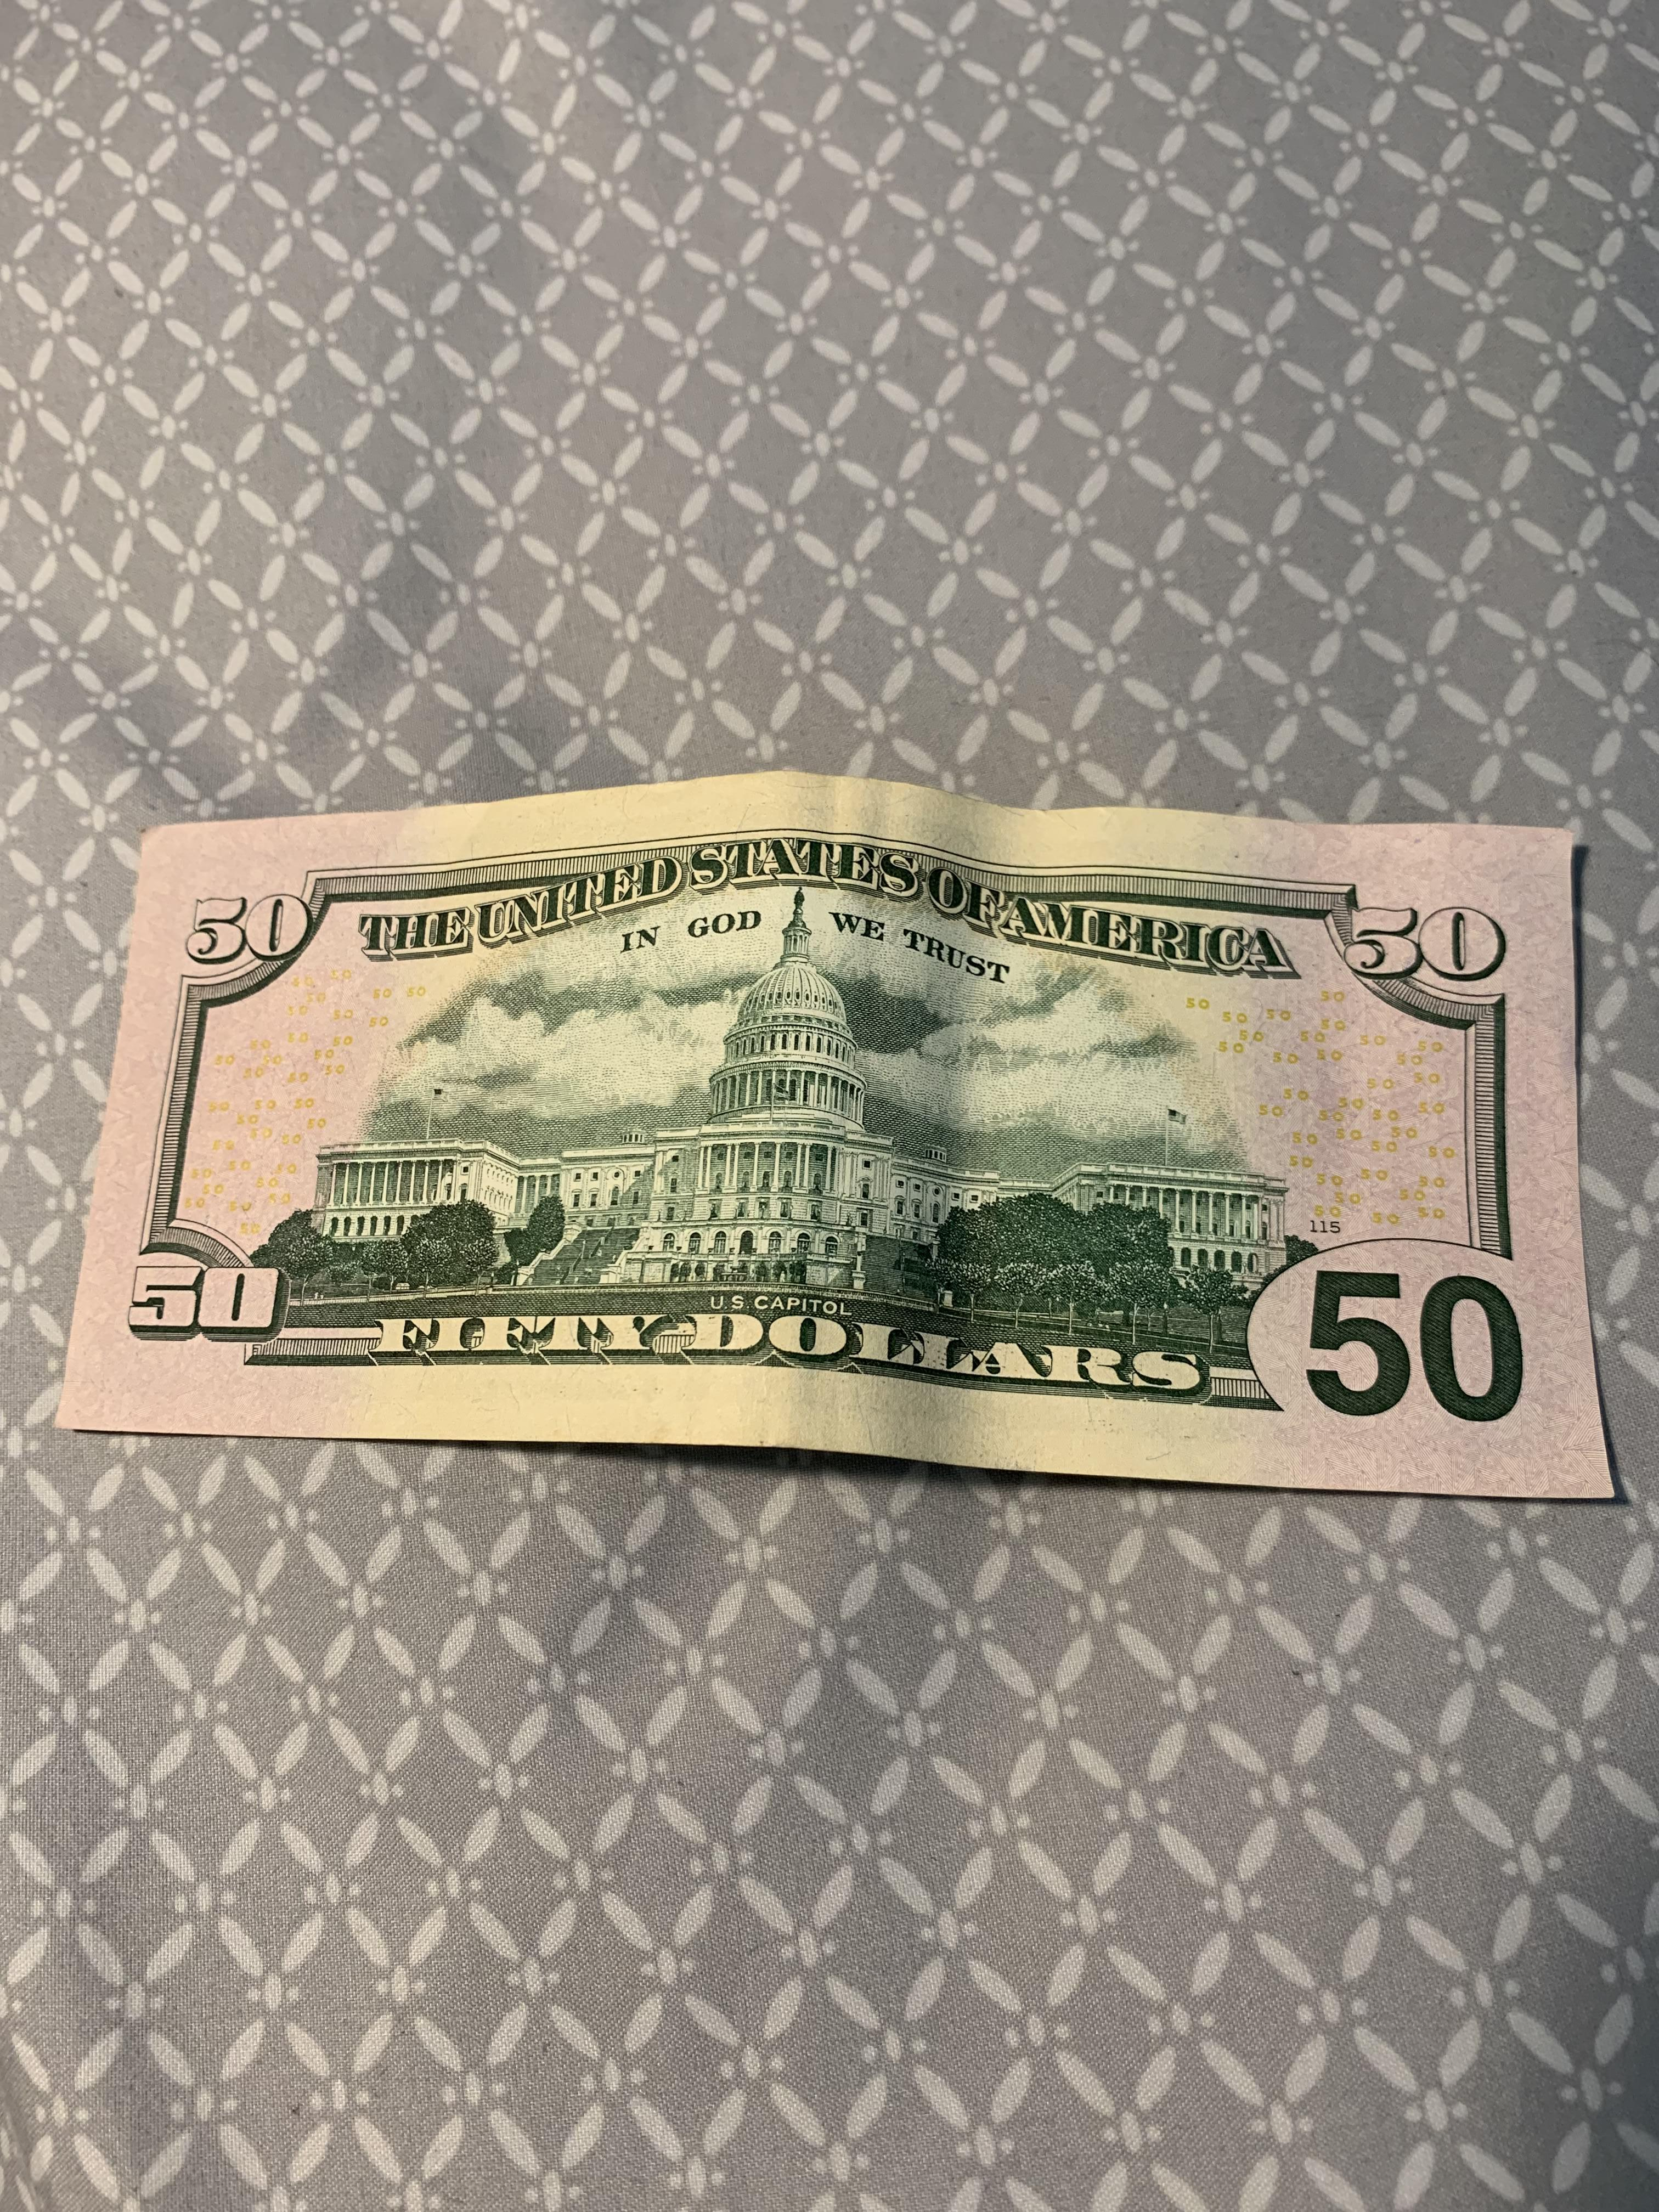FiftyBill: (38, 758, 1635, 1515)
